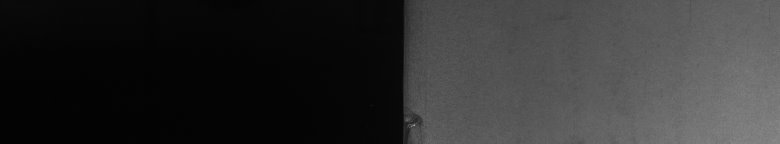hb: (412, 108, 429, 133)
